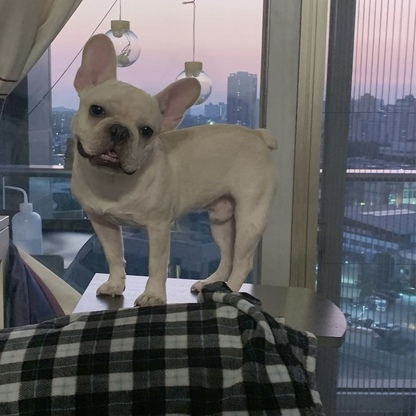bulldog: (68, 33, 281, 309)
